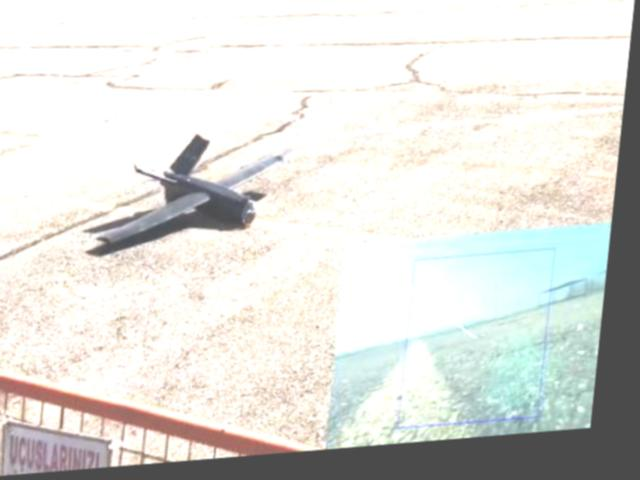uav: (97, 129, 308, 256)
